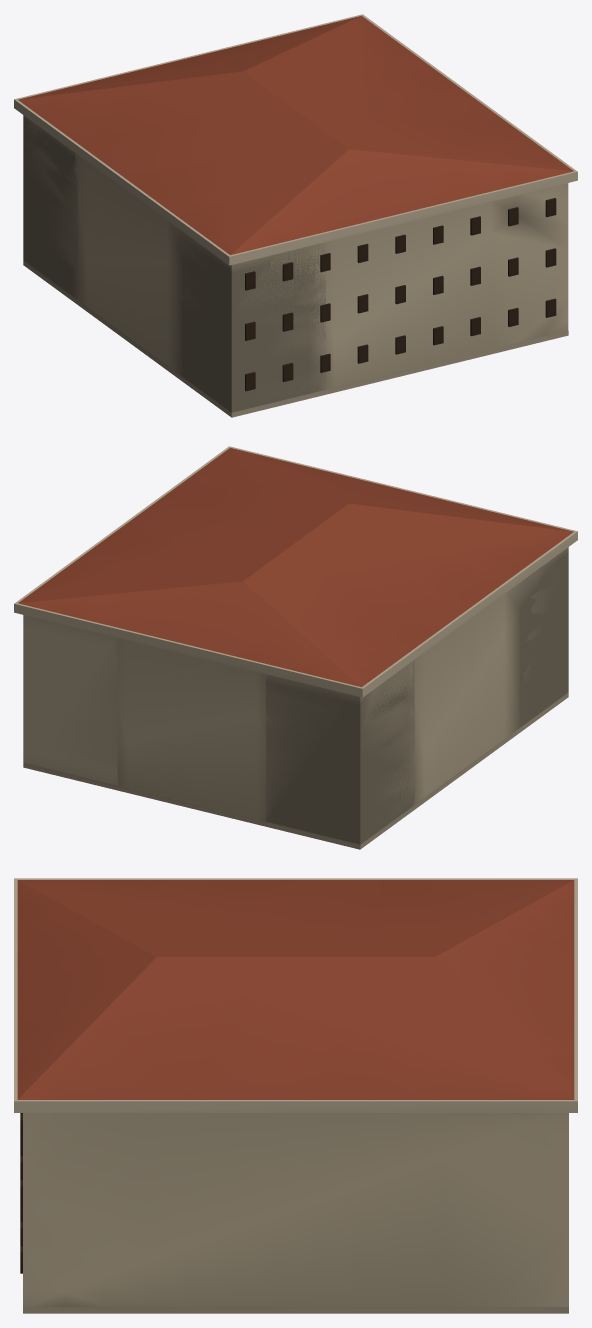
The model's file is palazzo-farnese.glb.
The picture shows the model from 3 angles, top to bottom: view 1: azimuth 30°, elevation 25°; view 2: azimuth 150°, elevation 25°; view 3: azimuth 270°, elevation 25°; orthographic projection. The views are drawn at different scales.
Parts seen in each view (by area): view 1: p1_block, p2_roof, p0_ground; view 2: p1_block, p2_roof, p0_ground; view 3: p2_roof, p1_block, p0_ground.
Boxes of the visible parts, box(x1,y1,x2,y2) form: p1_block: box(23, 115, 568, 412); p2_roof: box(14, 14, 577, 265); p0_ground: box(23, 260, 568, 417); p1_block: box(23, 547, 568, 844); p2_roof: box(14, 446, 577, 697); p0_ground: box(23, 692, 568, 849); p2_roof: box(14, 878, 577, 1112); p1_block: box(20, 1113, 568, 1306); p0_ground: box(23, 1307, 568, 1313).
Size of the model in its own units: 58 by 30.2 by 62.
